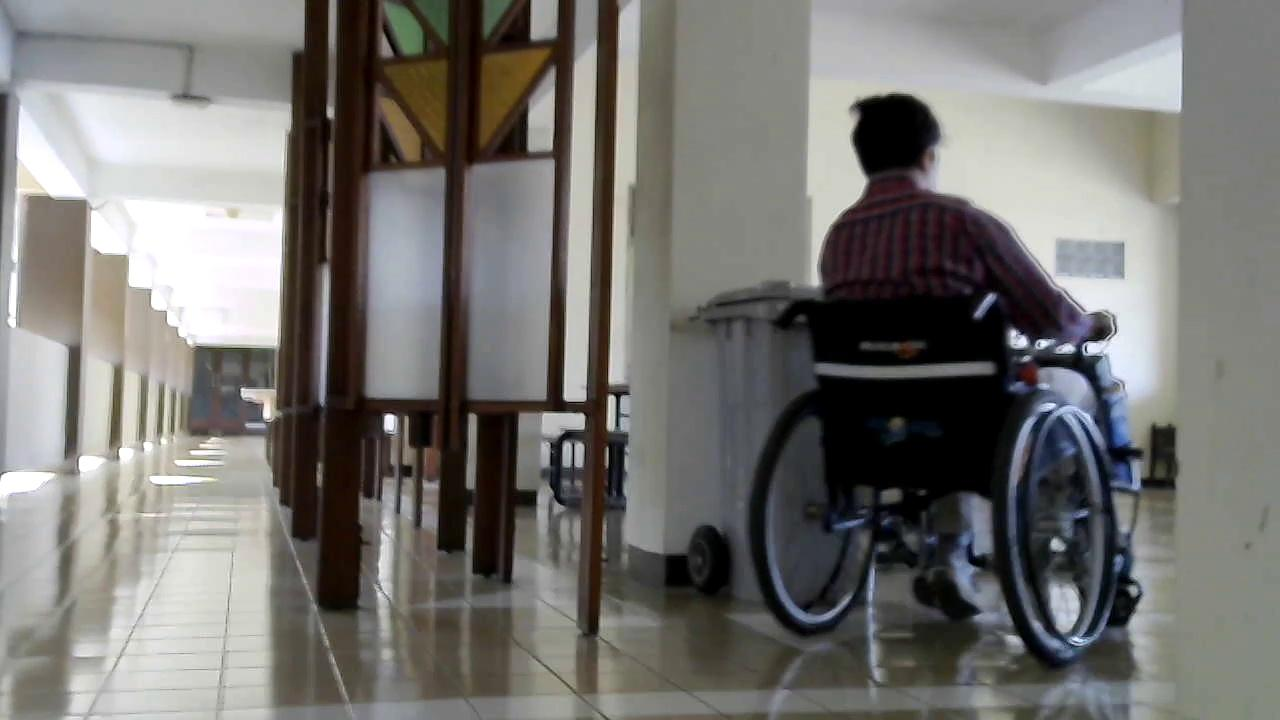person: (816, 91, 1099, 353)
wheelchair: (729, 283, 1157, 684)
